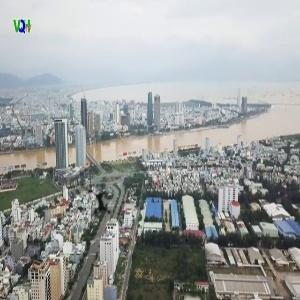drone: (63, 167, 135, 239)
